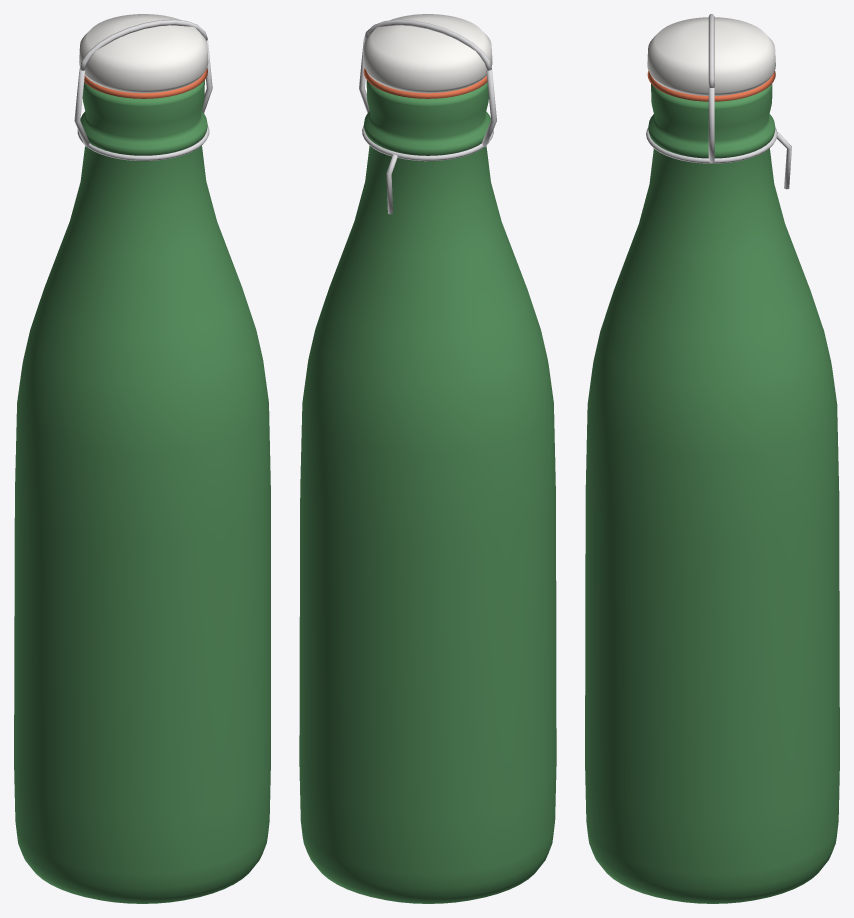
Rendered from bottle_swingtop.glb.
3 renders of one model, left to right at view 1: azimuth 30°, elevation 25°; view 2: azimuth 150°, elevation 25°; view 3: azimuth 270°, elevation 25°, orthographic.
Parts seen in each view (by area): view 1: Glass, Cap, Bail; view 2: Glass, Cap, Bail; view 3: Glass, Cap, Bail.
Part boxes in pixels (box(x1,y1,x2,y2)): Glass: box(14, 80, 270, 903); Cap: box(79, 14, 208, 98); Bail: box(74, 19, 212, 160); Glass: box(299, 80, 556, 903); Cap: box(363, 14, 492, 98); Bail: box(359, 19, 496, 214); Glass: box(585, 83, 839, 903); Cap: box(647, 17, 775, 101); Bail: box(646, 14, 791, 189).
Bounding box in the file's own units: 0.0691 × 0.2473 × 0.0687.
